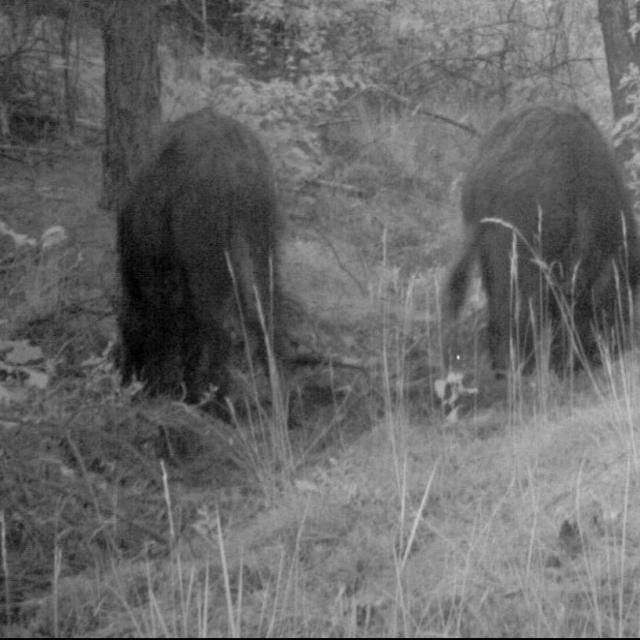pig: (433, 47, 640, 458), (84, 89, 302, 448)
